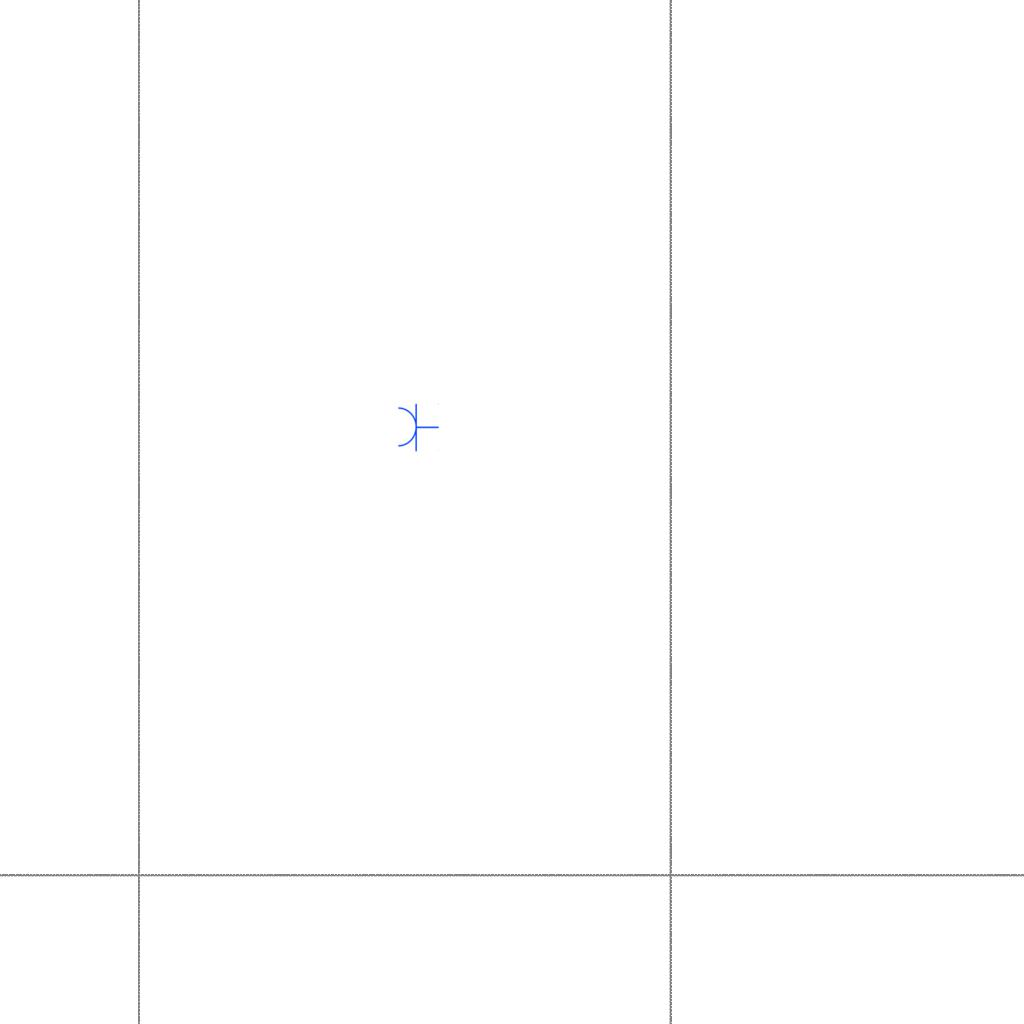Schukosteckdose_einfach: (396, 402, 439, 452)
